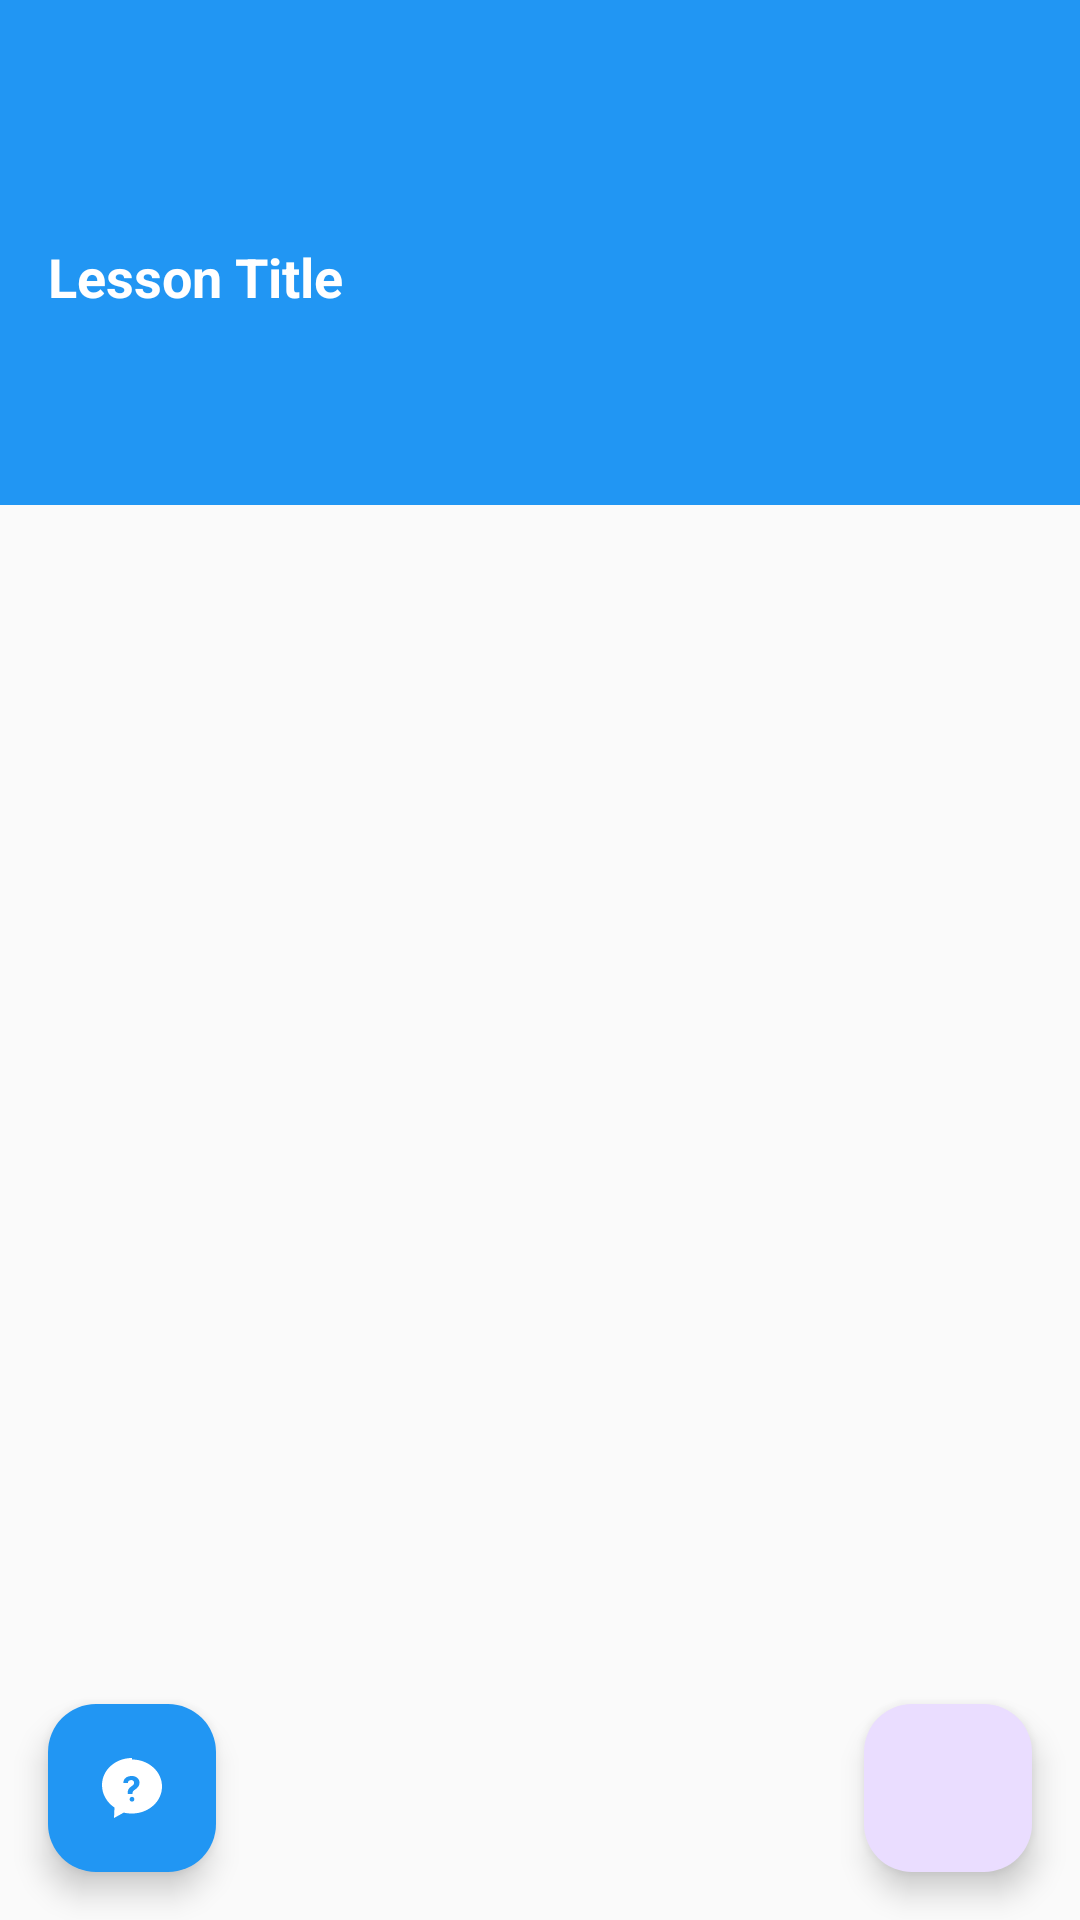

Named icons in this screenshot (1080px×1920px) and their bounding boxes, (x1, y1, x2, y2):
AI Help: (48, 1704, 216, 1872)
